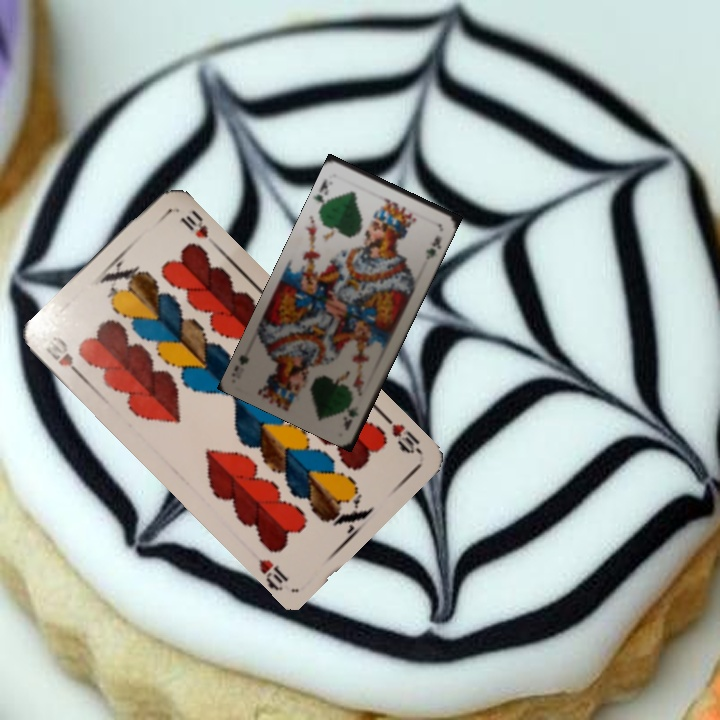GK: (311, 174, 332, 211), (339, 405, 361, 432)
H10: (377, 409, 424, 457), (41, 339, 87, 382)
